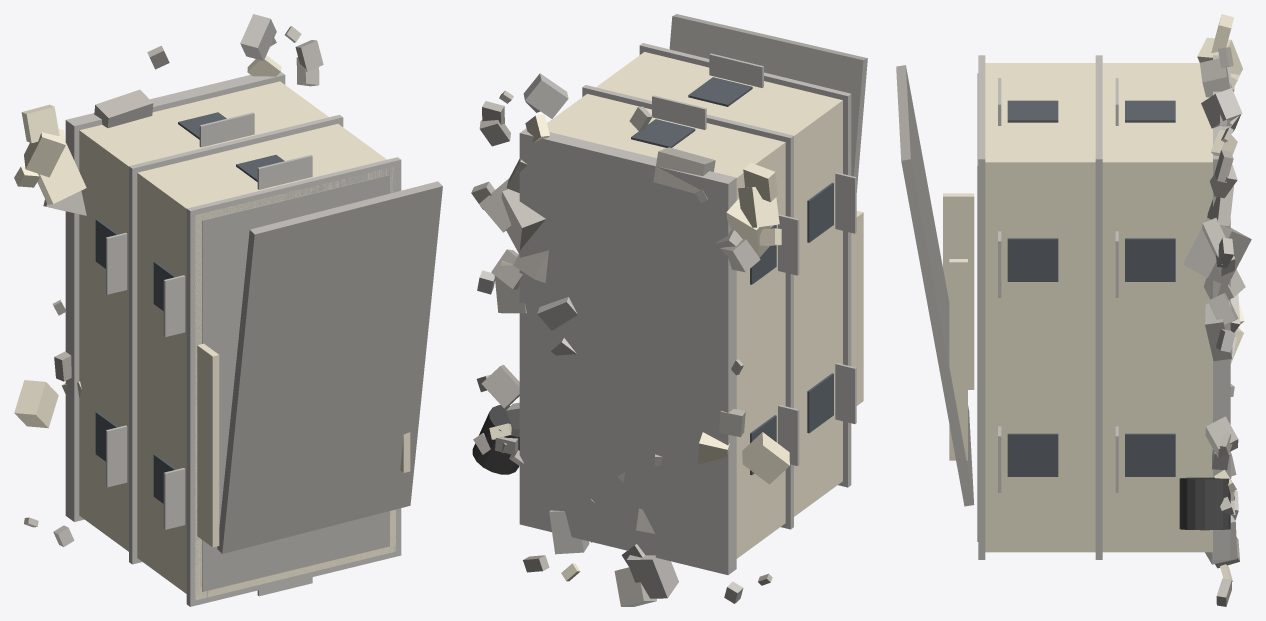
File: damaged_topfloor_rowhouse_3f.glb
3 renders of one model, left to right at view 1: azimuth 30°, elevation 25°; view 2: azimuth 150°, elevation 25°; view 3: azimuth 270°, elevation 25°, orthographic. The views are drawn at different scales.
Visible parts, largest first — view 1: roof, cream, concrete, rubble, glass; view 2: concrete, cream, rubble, roof, glass, tank; view 3: cream, concrete, glass, rubble, roof, tank.
Boxes of the visible parts, <box> form: roof: <box>202,175,442,591</box>; cream: <box>14,55,410,600</box>; concrete: <box>53,14,401,606</box>; rubble: <box>24,26,323,527</box>; glass: <box>95,112,284,503</box>; concrete: <box>477,43,856,603</box>; cream: <box>489,52,863,581</box>; rubble: <box>471,90,772,606</box>; roof: <box>669,14,867,192</box>; glass: <box>631,77,833,475</box>; tank: <box>472,405,519,474</box>; cream: <box>943,14,1244,581</box>; concrete: <box>978,55,1242,564</box>; glass: <box>1007,100,1175,476</box>; rubble: <box>1183,47,1251,606</box>; roof: <box>896,65,978,541</box>; tank: <box>1179,477,1230,530</box>.
Bounding box in the file's own units: 9.7 × 14.76 × 9.09.
